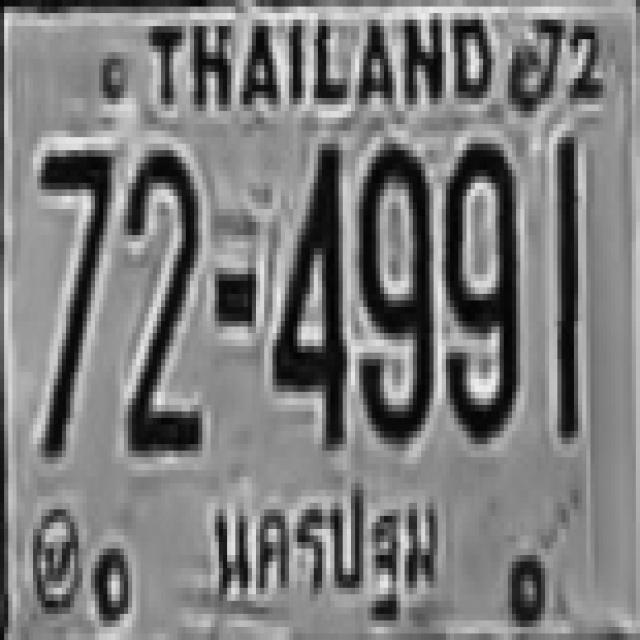0: (442, 134, 516, 434)
1: (553, 134, 578, 434)
2: (122, 144, 196, 450)
4: (268, 134, 343, 441)
7: (37, 144, 112, 450)
9: (355, 137, 430, 438), (442, 137, 516, 438)
NakhonPathom: (208, 472, 453, 628)
